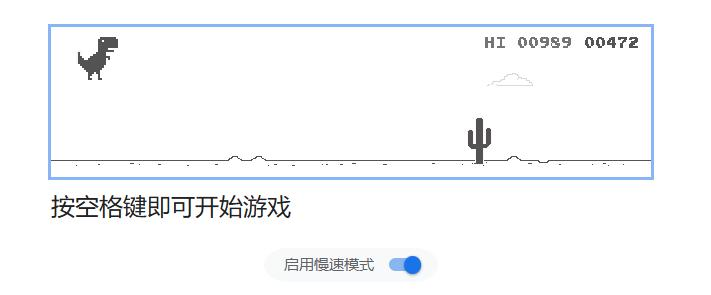cactus: (466, 117, 492, 166)
dino: (76, 36, 118, 81)
